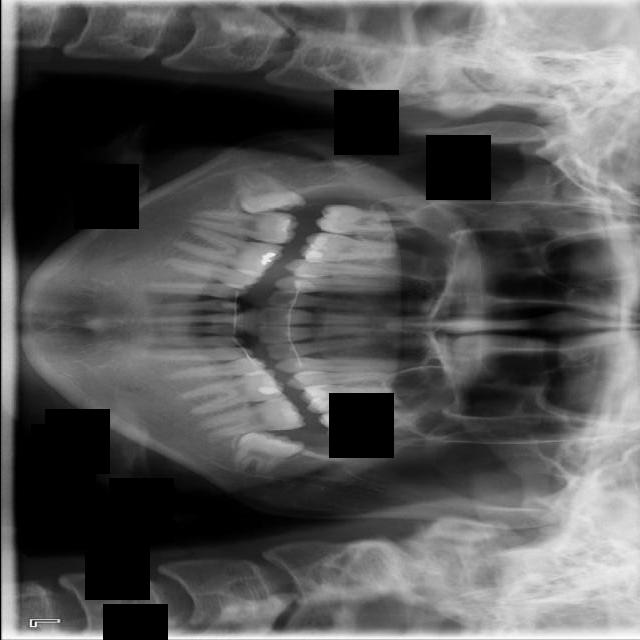52: (226, 239, 283, 280), (315, 403, 370, 443), (233, 367, 287, 406), (297, 383, 352, 415), (297, 232, 352, 263)
73: (48, 596, 70, 608)
BioHorizons Implant: (315, 396, 427, 441)
Biomet 3i Implant: (228, 425, 305, 489)
Blue Sky Bio Implant: (196, 394, 307, 441)
Caries: (312, 201, 427, 242)
Implant: (185, 210, 301, 245)
Keystone Dental Implant: (230, 168, 311, 223)
